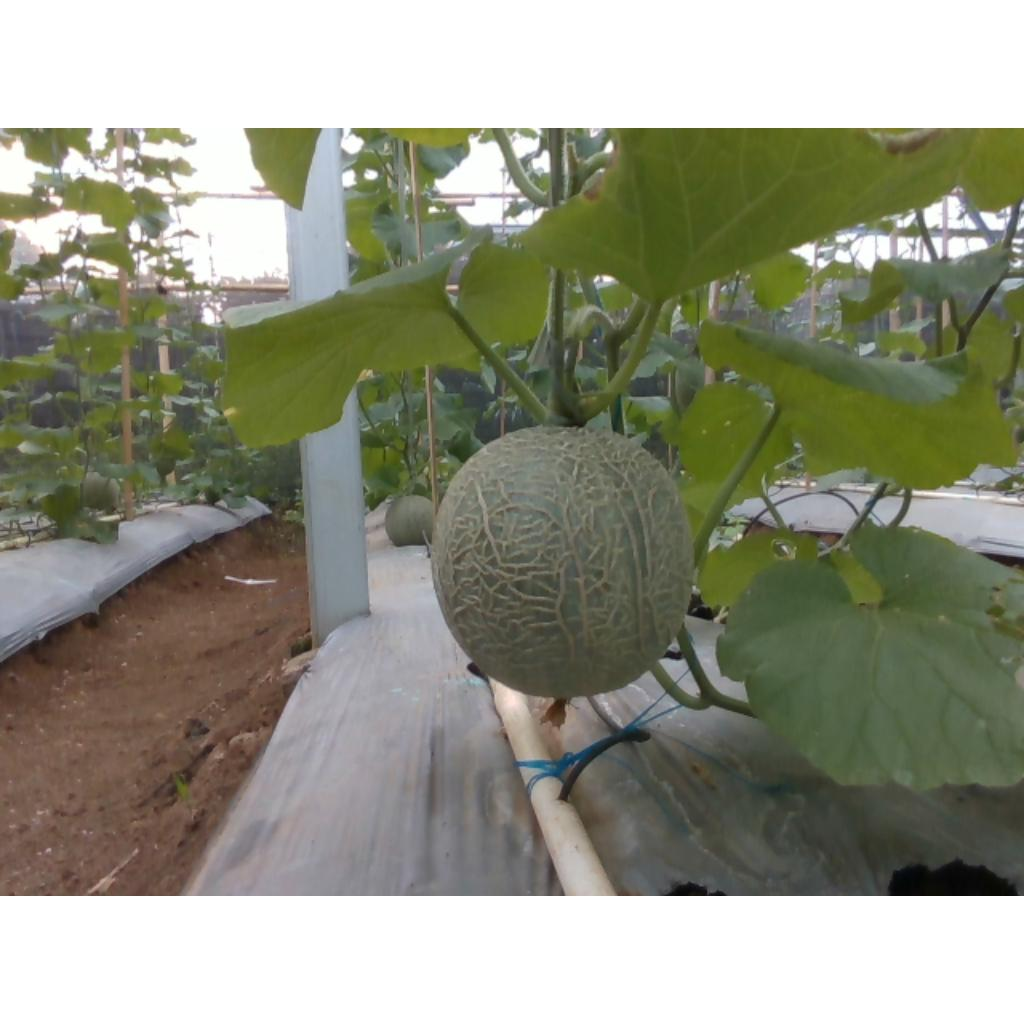melon: (434, 427, 693, 698)
